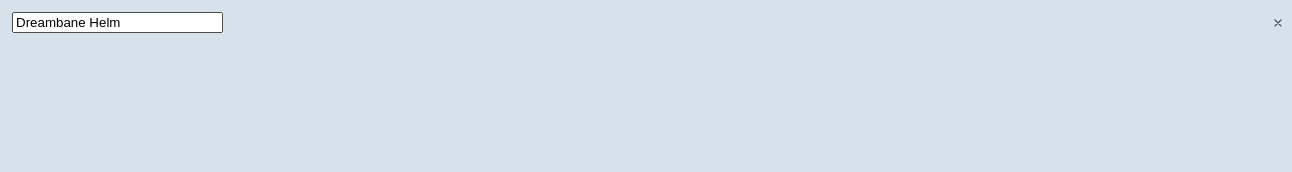
Test: ClearSearchInput keyboard undo › clicking Clear focuses the field and leaves no inline undo button
The width and height of the screenshot is (1292, 172).
What coordinates should you click on to do the following:
click the button named "Clear filter"
I would click on:
 (1278, 22)
Its box is [1268, 12, 1288, 32].
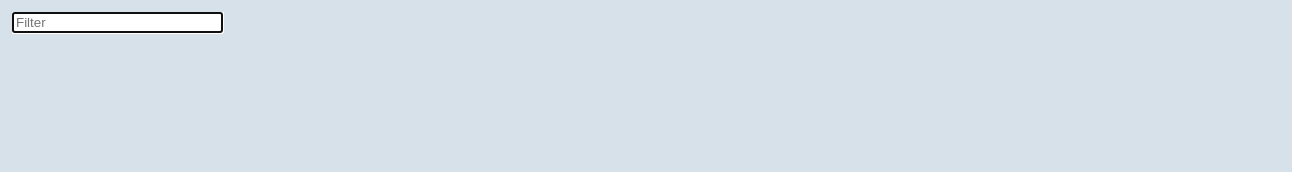
Expected: the search field with placeholder "Filter" is empty, [12, 12, 223, 33]
Expected: the button is gone
